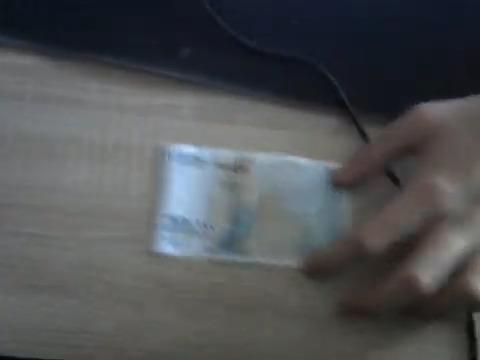20leva: (149, 143, 349, 269)
